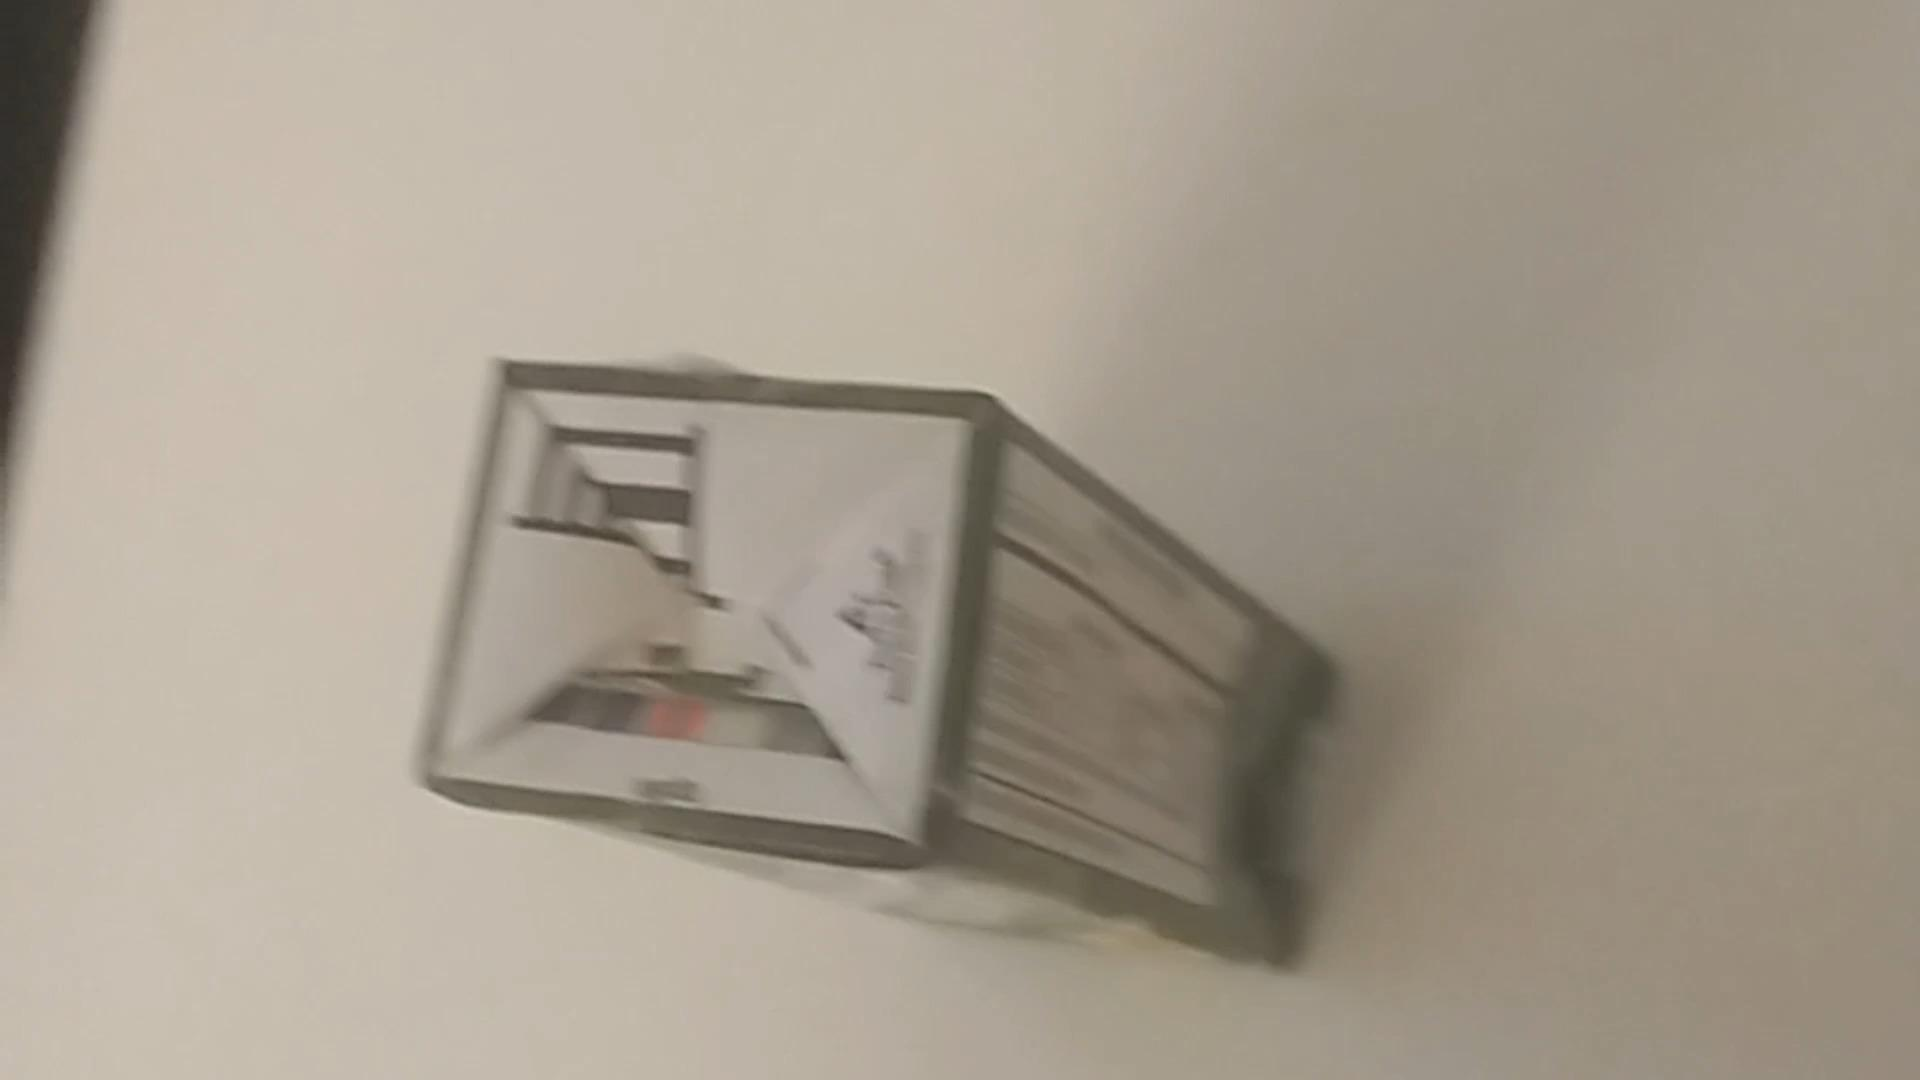coco: (425, 345, 1331, 980)
